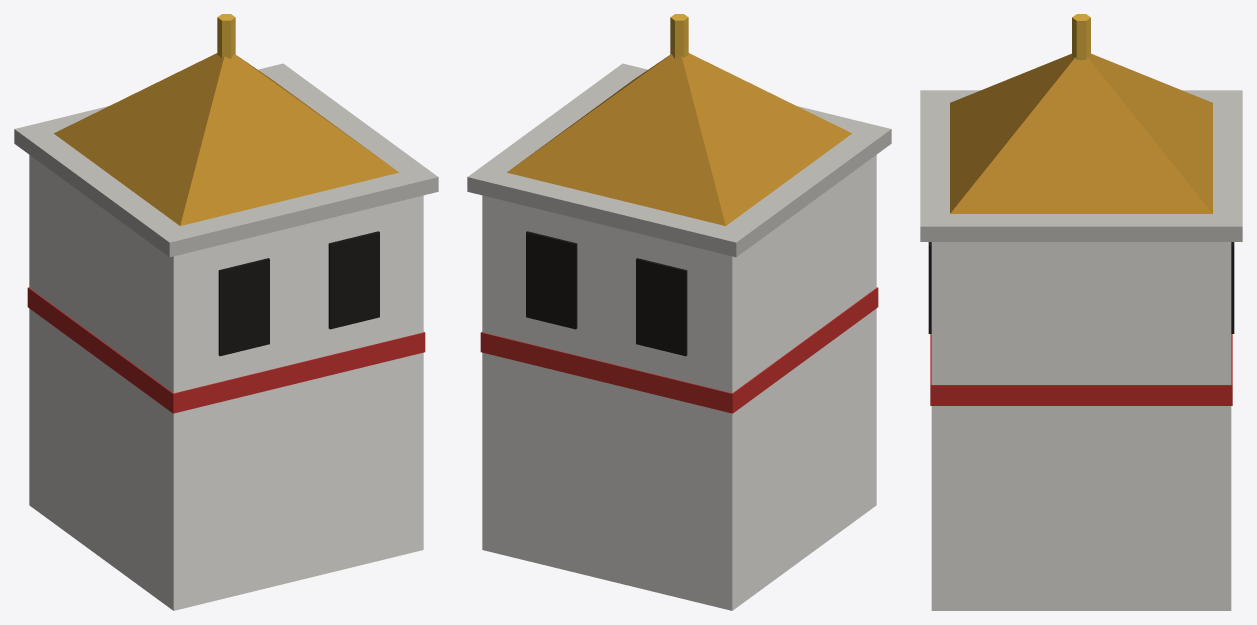
The model's file is SM_GrandTower.fbx.
3 renders of one model, left to right at view 1: azimuth 30°, elevation 25°; view 2: azimuth 150°, elevation 25°; view 3: azimuth 270°, elevation 25°, orthographic. The views are drawn at different scales.
Visible parts, largest first — view 1: SM_GrandTower; view 2: SM_GrandTower; view 3: SM_GrandTower.
Part boxes in pixels (<box>): SM_GrandTower: <box>14,14,438,610</box>; SM_GrandTower: <box>467,14,891,610</box>; SM_GrandTower: <box>920,14,1242,610</box>.
Bounding box in the file's own units: 8.6 × 8.6 × 15.6.
